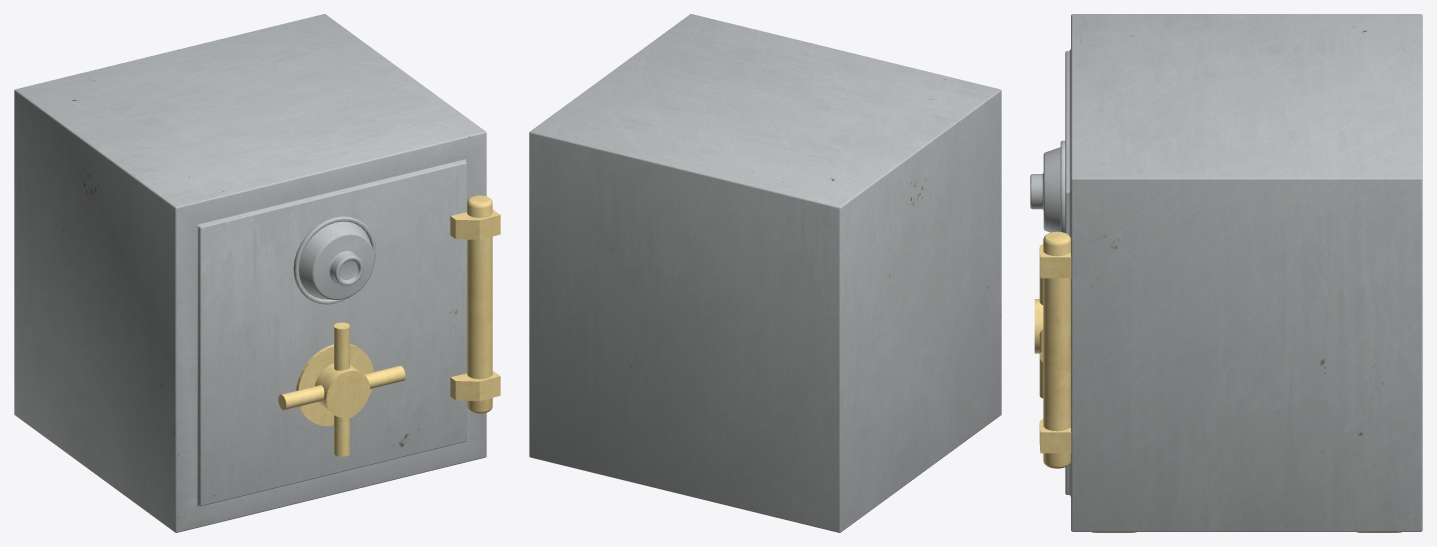
The model's file is PZ_MACHINE_.fbx.
3 views of the same model, side by side, from view 1: azimuth 30°, elevation 25°; view 2: azimuth 150°, elevation 25°; view 3: azimuth 270°, elevation 25° (orthographic). The views are drawn at different scales.
Parts seen in each view (by area): view 1: PZ_MACHINE; view 2: PZ_MACHINE; view 3: PZ_MACHINE.
Boxes of the visible parts, <box> form: PZ_MACHINE: <box>14,14,500,532</box>; PZ_MACHINE: <box>529,14,1001,532</box>; PZ_MACHINE: <box>1030,14,1422,532</box>.
Size of the model in its own units: 50 by 51.18 by 50.2.
